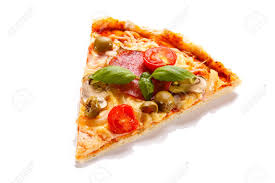pizza: (78, 15, 237, 157)
